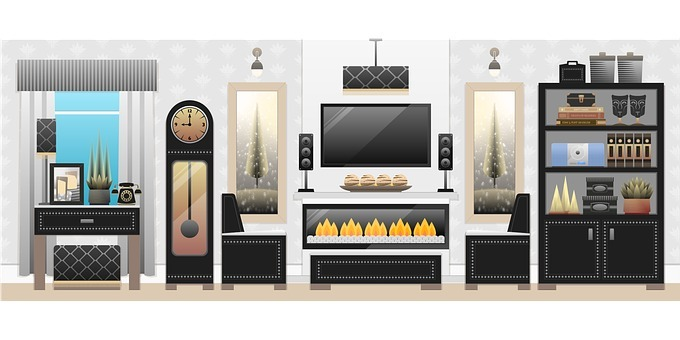chair: (218, 187, 295, 298), (458, 182, 533, 294)
pottedplant: (86, 128, 116, 208), (618, 176, 655, 216)
tvmonitor: (315, 95, 434, 176)
